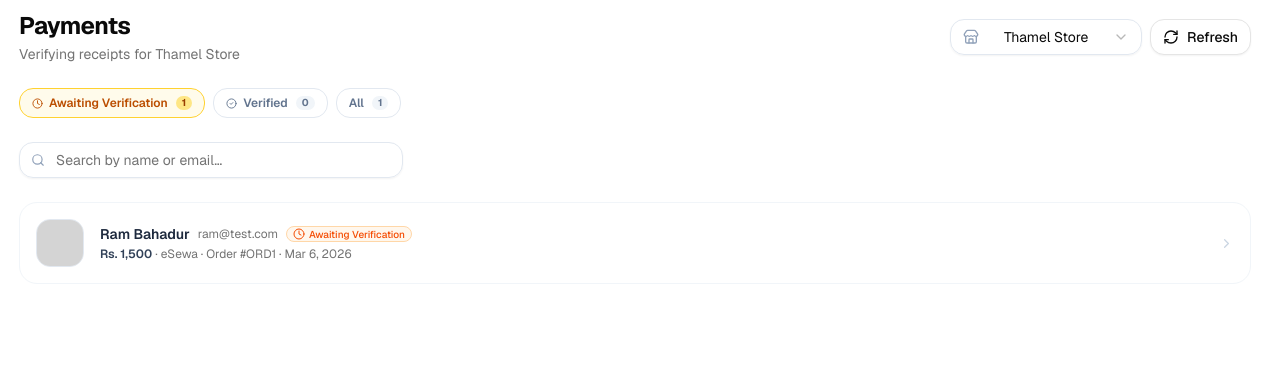
Test: AdminPaymentsPage › filters list when search term does not match any customer
Expected: the text "Ram Bahadur" is shown, [100,224,190,244]
Type "nobody" into the field with placeholder "Search by name or email…".
click(211, 160); type("nobody")  # box [19,142,403,178]
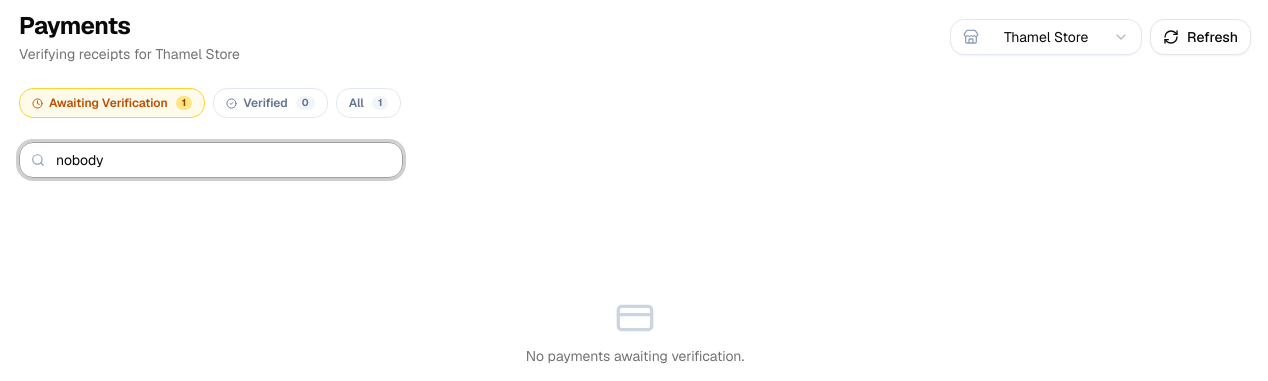
Expected: the button "Ram Bahadur" is gone
